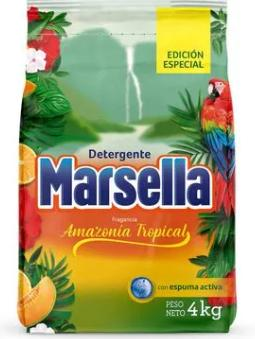brand: (34, 152, 215, 209)
extra_detail: (58, 218, 201, 261)
net_weight: (187, 296, 227, 324)
product_name: (88, 145, 154, 162)
